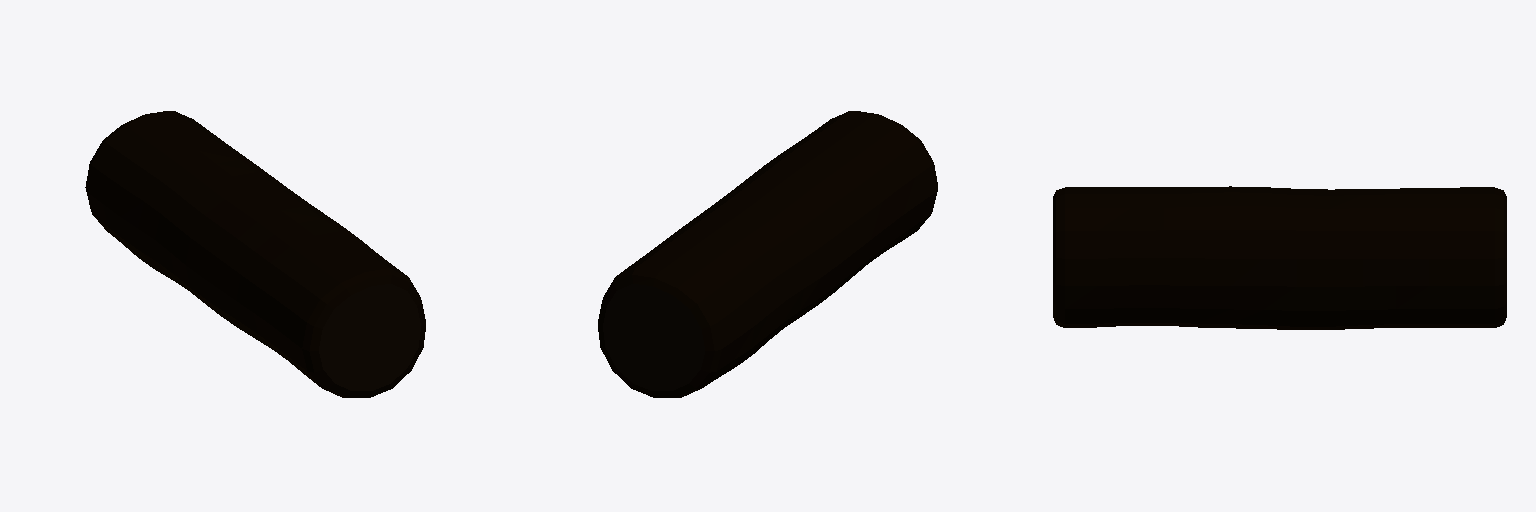
The model's file is timber-1.obj.
The picture shows the model from 3 angles: view 1: azimuth 30°, elevation 25°; view 2: azimuth 150°, elevation 25°; view 3: azimuth 270°, elevation 25°; orthographic projection.
Parts seen in each view (by area): view 1: Cylinder; view 2: Cylinder; view 3: Cylinder.
Boxes of the visible parts, x1=… form: Cylinder: x1=85, y1=111, x2=425, y2=397; Cylinder: x1=598, y1=111, x2=937, y2=397; Cylinder: x1=1053, y1=186, x2=1506, y2=329.
Size of the model in its own units: 0.1582 by 0.1547 by 0.5.